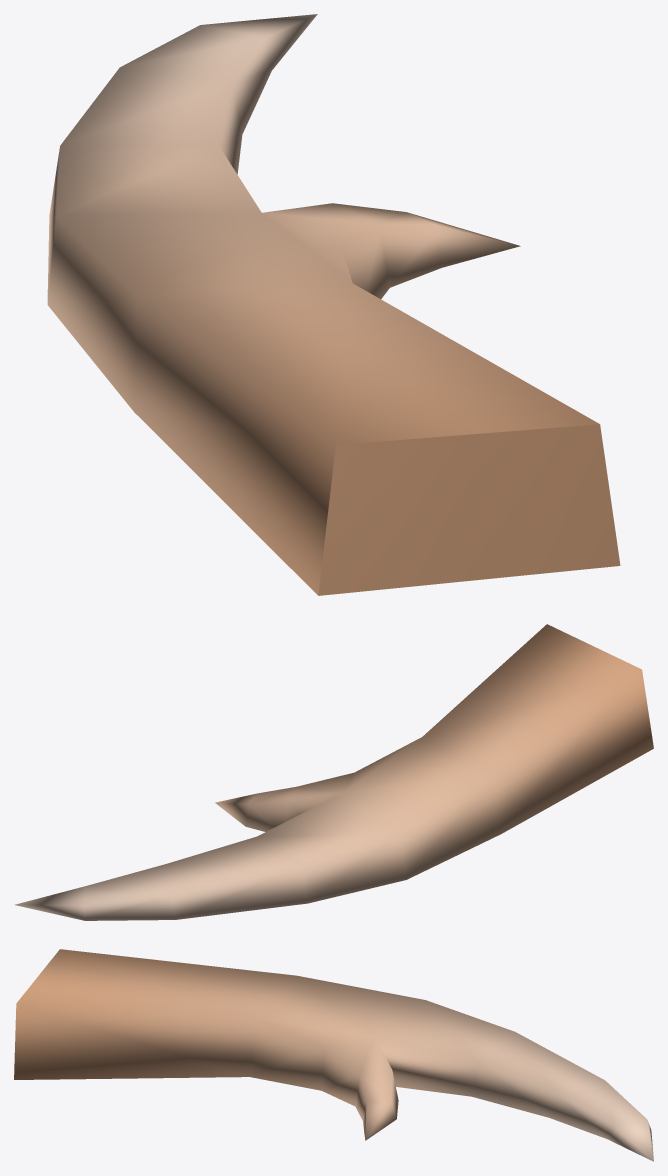
File: BoneStick.fbx
The picture shows the model from 3 angles, top to bottom: view 1: azimuth 30°, elevation 25°; view 2: azimuth 150°, elevation 25°; view 3: azimuth 270°, elevation 25°; orthographic projection. The views are drawn at different scales.
Visible parts, largest first — view 1: BoneStick; view 2: BoneStick; view 3: BoneStick.
Part boxes in pixels (x1=…): BoneStick: x1=47, y1=14, x2=620, y2=595; BoneStick: x1=14, y1=624, x2=653, y2=920; BoneStick: x1=14, y1=949, x2=653, y2=1161.
Size of the model in its own units: 7.19 by 1.68 by 13.37.
